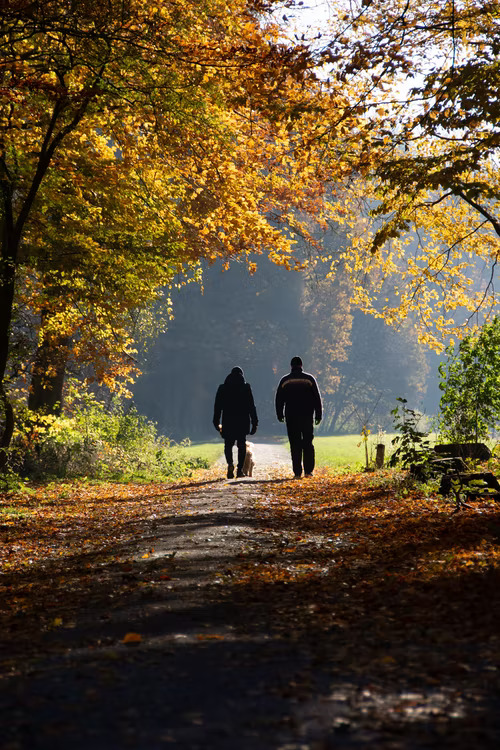person: (275, 357, 322, 478), (213, 366, 258, 479)
